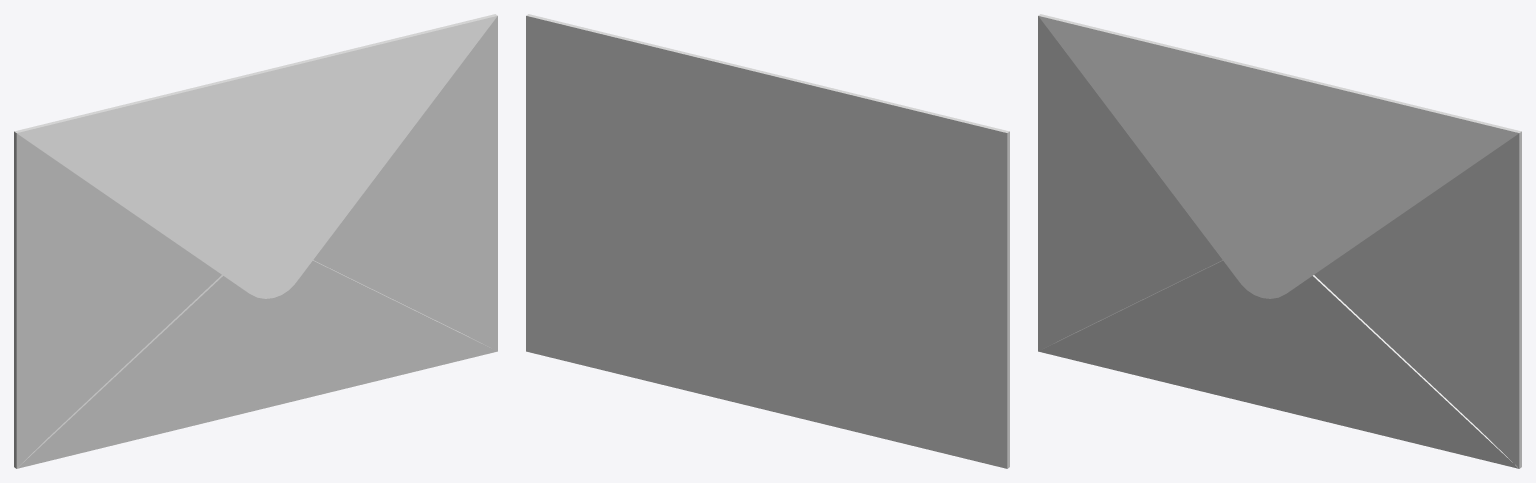
The model's file is envelope.gltf.
The picture shows the model from 3 angles, left to right: view 1: azimuth 30°, elevation 25°; view 2: azimuth 150°, elevation 25°; view 3: azimuth 330°, elevation 25°; orthographic projection.
Parts seen in each view (by area): view 1: Plane.332; view 2: Plane.332; view 3: Plane.332.
Part boxes in pixels (x1=…): Plane.332: x1=14, y1=14, x2=497, y2=468; Plane.332: x1=526, y1=14, x2=1009, y2=468; Plane.332: x1=1038, y1=14, x2=1521, y2=468.
Bounding box in the file's own units: 2.34 × 1.56 × 0.1601.
Materials: 1 (1 with a texture image).
